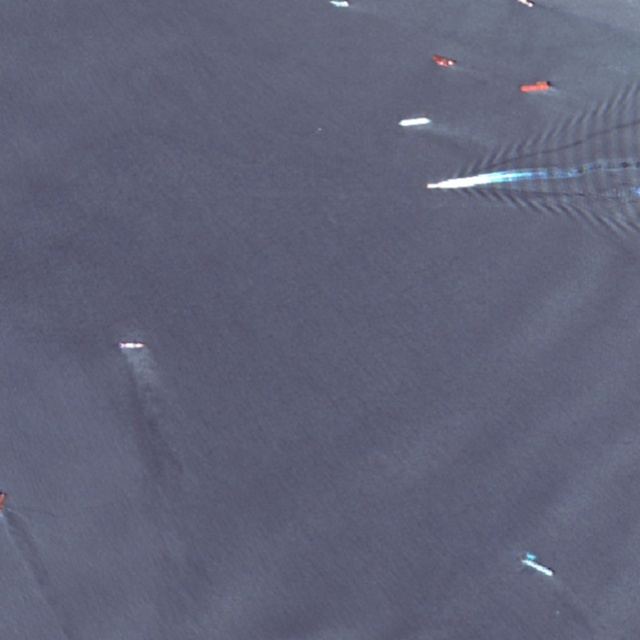wake: (409, 107, 628, 248)
